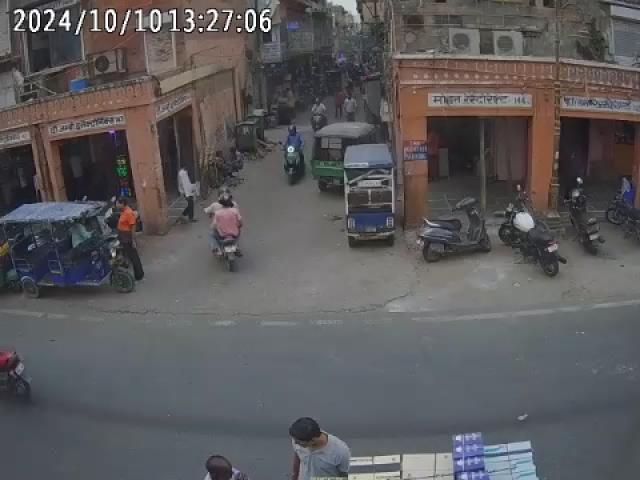auto: (5, 200, 130, 298), (341, 143, 398, 243), (314, 122, 381, 192)
helmet: (218, 192, 235, 208)
motorbike: (498, 195, 566, 278)
motorbike-rider: (206, 190, 246, 272)
scooty: (414, 192, 488, 262), (568, 180, 608, 255)
scooty-rider: (280, 126, 304, 186)
